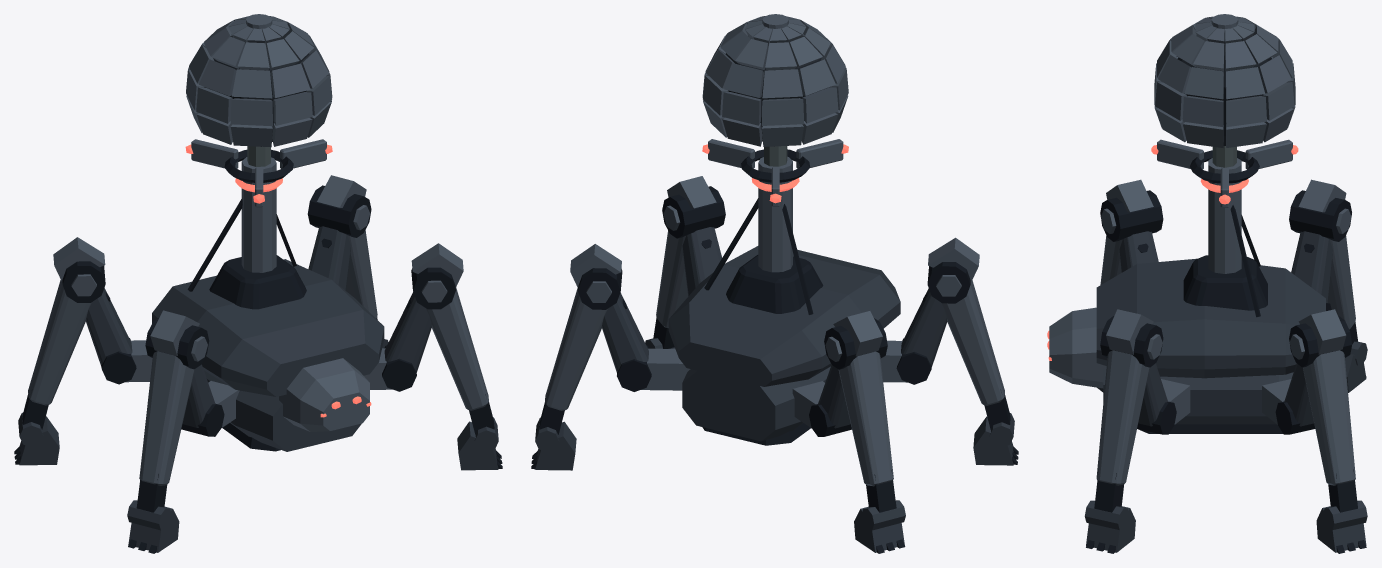
Rendered from m_radar.glb.
3 renders of one model, left to right at view 1: azimuth 30°, elevation 25°; view 2: azimuth 150°, elevation 25°; view 3: azimuth 270°, elevation 25°, orthographic.
Parts seen in each view (by area): view 1: Radar spider, Leg shin, Leg shin.003, Leg shin.001, Leg shin.002, Sensor fins, Leg femur.001, Leg femur.003, Leg femur, Leg femur.002, Leg hoof.001, Leg hoof.003 (+3 smaller); view 2: Radar spider, Leg shin.003, Leg shin, Leg shin.002, Leg shin.001, Sensor fins, Leg femur.002, Leg femur, Leg femur.003, Leg femur.001, Leg coxa.002, Leg hoof.002 (+4 smaller); view 3: Radar spider, Leg shin.001, Leg shin.002, Leg shin.003, Leg shin, Sensor fins, Leg femur.003, Leg femur.001, Leg femur.002, Leg hoof.002, Leg hoof.001, Leg femur (+3 smaller).
Boxes of the visible parts, <box> form: Radar spider: <box>152,14,384,451</box>; Leg shin: <box>127,310,209,530</box>; Leg shin.003: <box>18,237,110,447</box>; Leg shin.001: <box>406,243,498,452</box>; Leg shin.002: <box>307,175,388,348</box>; Sensor fins: <box>185,139,332,207</box>; Leg femur.001: <box>382,292,431,391</box>; Leg femur.003: <box>86,288,136,384</box>; Leg femur: <box>181,364,224,436</box>; Leg femur.002: <box>308,226,350,290</box>; Leg hoof.001: <box>457,421,502,470</box>; Leg hoof.003: <box>14,416,59,465</box>; Radar spider: <box>668,14,900,445</box>; Leg shin.003: <box>824,311,905,530</box>; Leg shin: <box>922,237,1014,447</box>; Leg shin.002: <box>535,244,627,452</box>; Leg shin.001: <box>645,176,725,348</box>; Sensor fins: <box>702,139,848,206</box>; Leg femur.002: <box>602,292,651,391</box>; Leg femur: <box>896,288,947,384</box>; Leg femur.003: <box>809,365,851,436</box>; Leg femur.001: <box>682,227,721,295</box>; Leg coxa.002: <box>641,348,690,390</box>; Leg hoof.002: <box>531,421,576,470</box>; Radar spider: <box>1047,14,1325,433</box>; Leg shin.001: <box>1084,309,1163,530</box>; Leg shin.002: <box>1289,309,1367,530</box>; Leg shin.003: <box>1289,179,1367,365</box>; Leg shin: <box>1100,179,1163,284</box>; Sensor fins: <box>1151,139,1298,207</box>; Leg femur.003: <box>1291,231,1332,310</box>; Leg femur.001: <box>1137,363,1176,434</box>; Leg femur.002: <box>1275,363,1315,434</box>; Leg hoof.002: <box>1316,506,1366,553</box>; Leg hoof.001: <box>1086,506,1135,553</box>; Leg femur: <box>1119,231,1158,272</box>.
Size of the model in its own units: 3.21 by 3.62 by 2.37.
